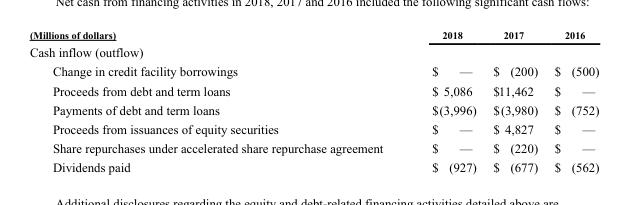table: (28, 28, 598, 174)
table column: (28, 28, 406, 174), (406, 28, 484, 174), (484, 28, 545, 174), (545, 28, 598, 174)
table column header: (28, 28, 598, 42)
table projected row header: (28, 42, 598, 61)
table row: (28, 99, 598, 119), (28, 42, 598, 61), (28, 61, 598, 80), (28, 80, 598, 99), (28, 119, 598, 138), (28, 138, 598, 157), (28, 157, 598, 174), (28, 28, 598, 42)
